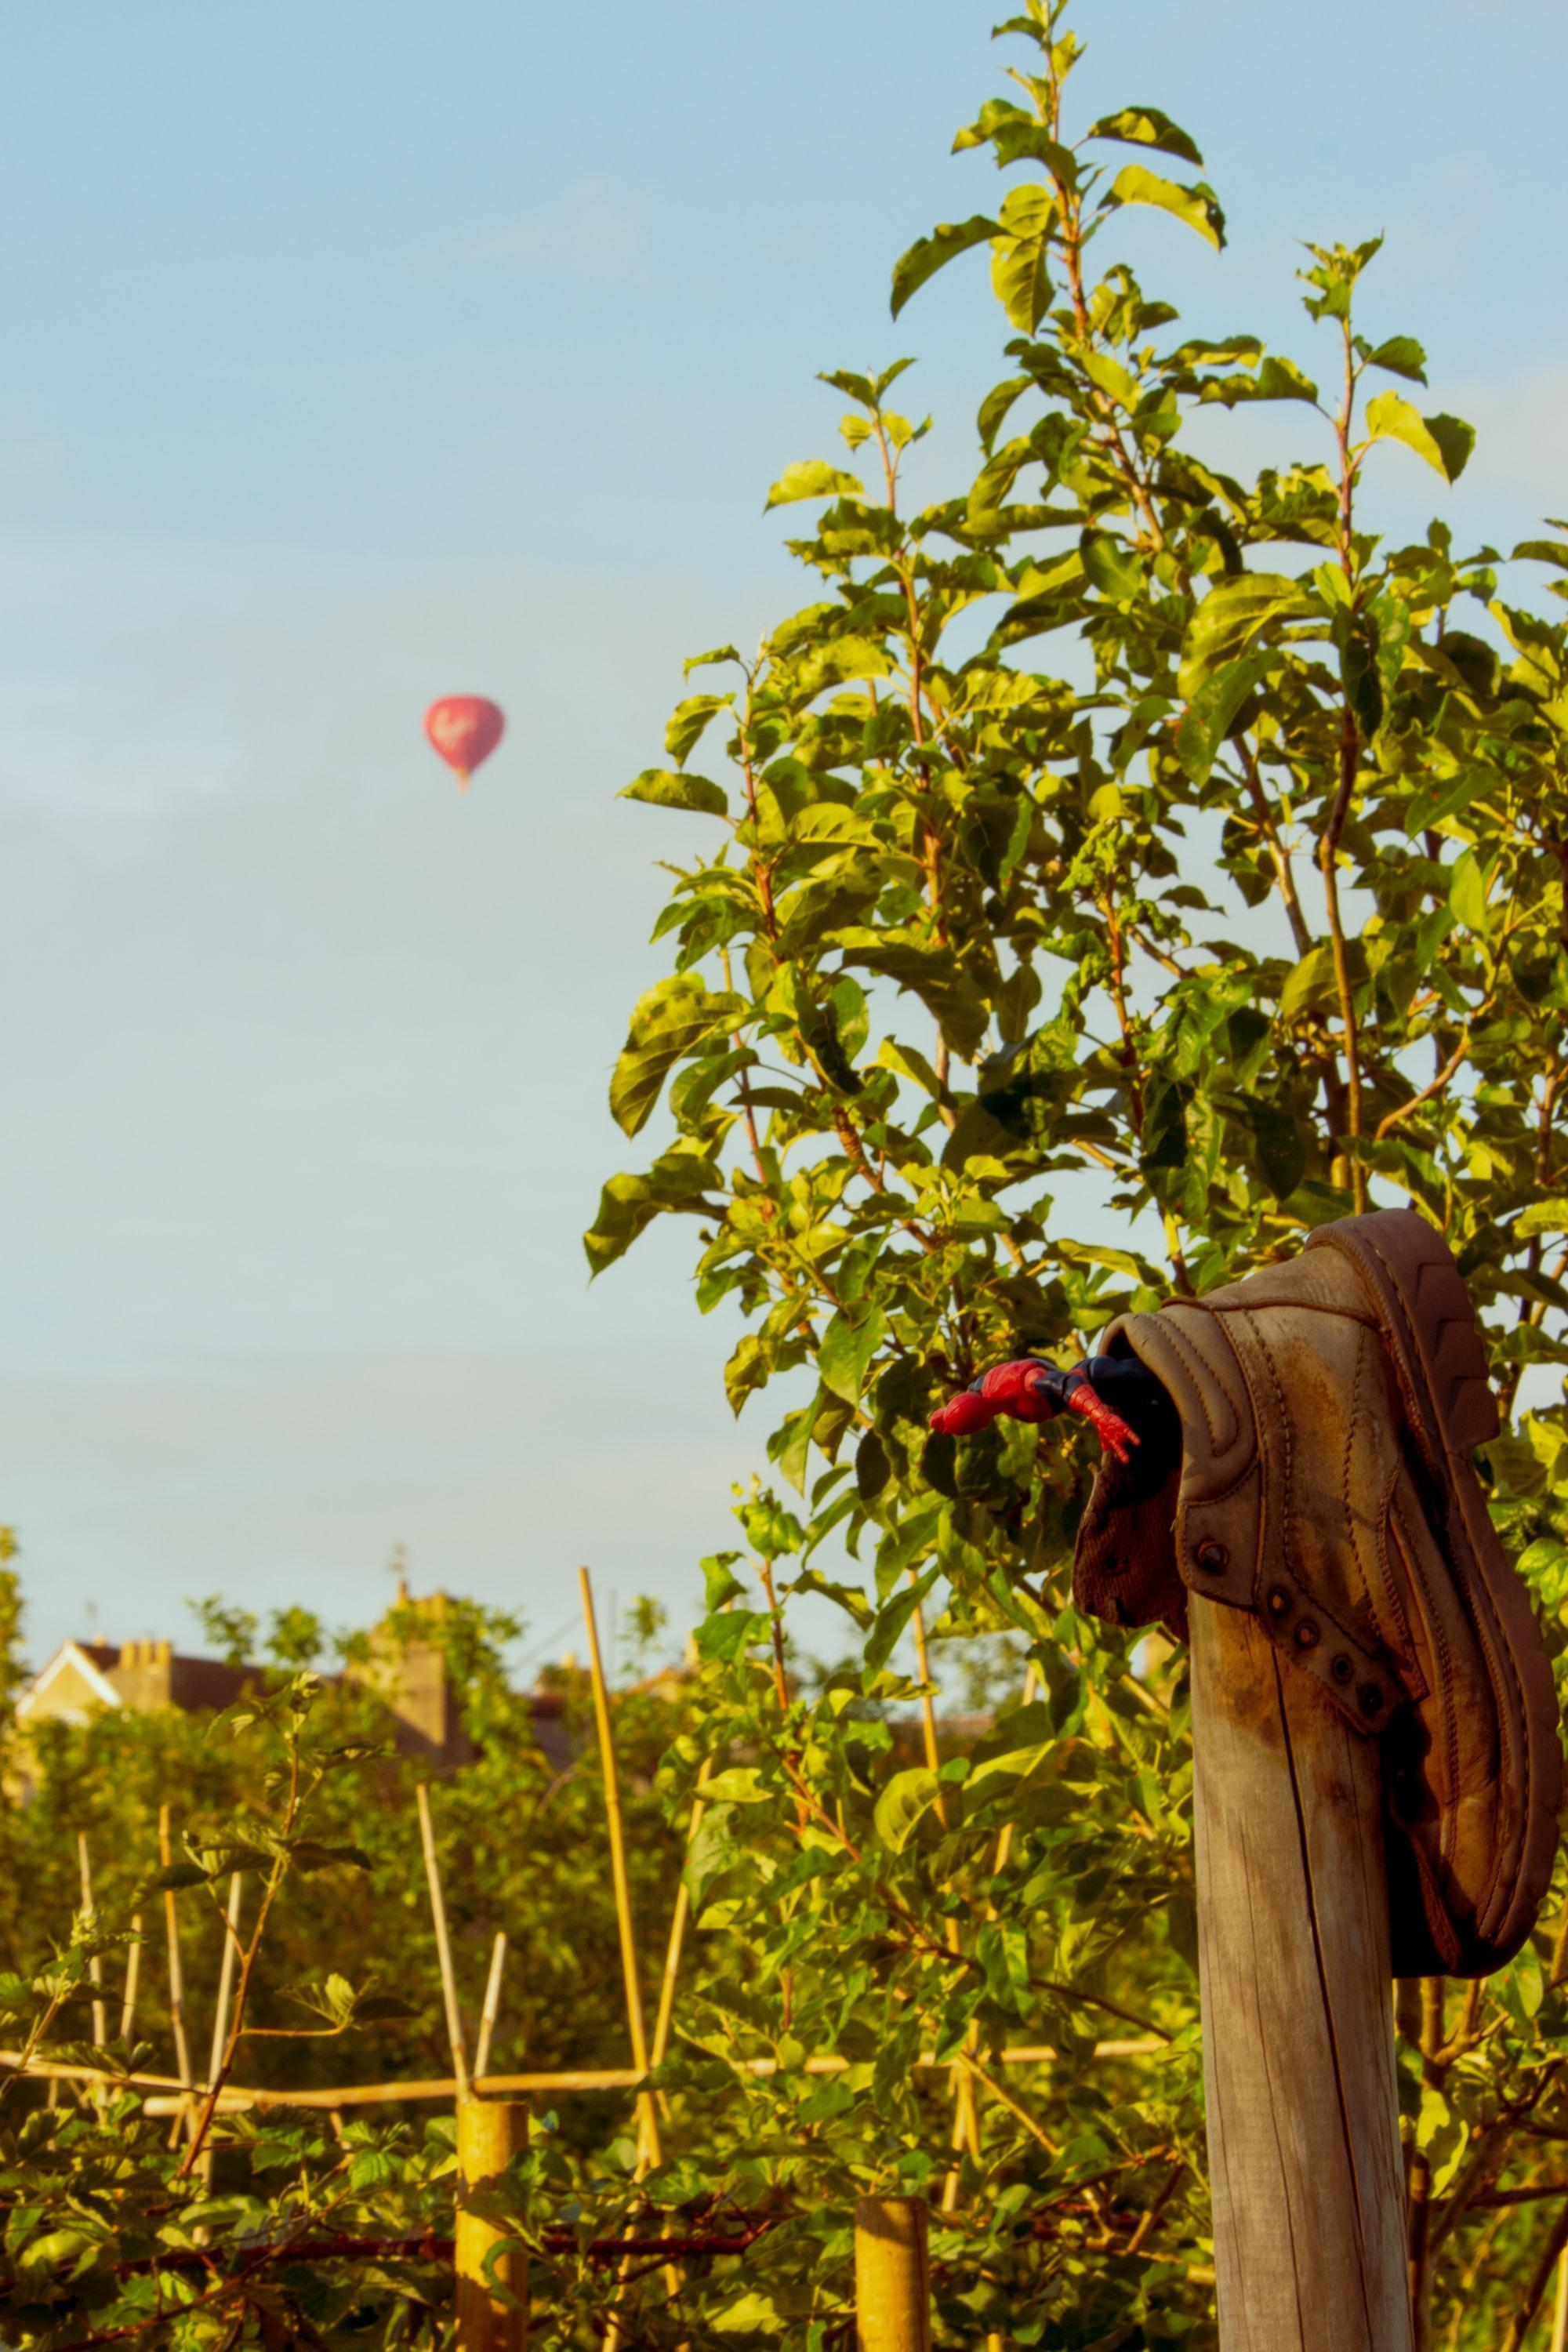hot air ballon: (424, 697, 507, 793)
